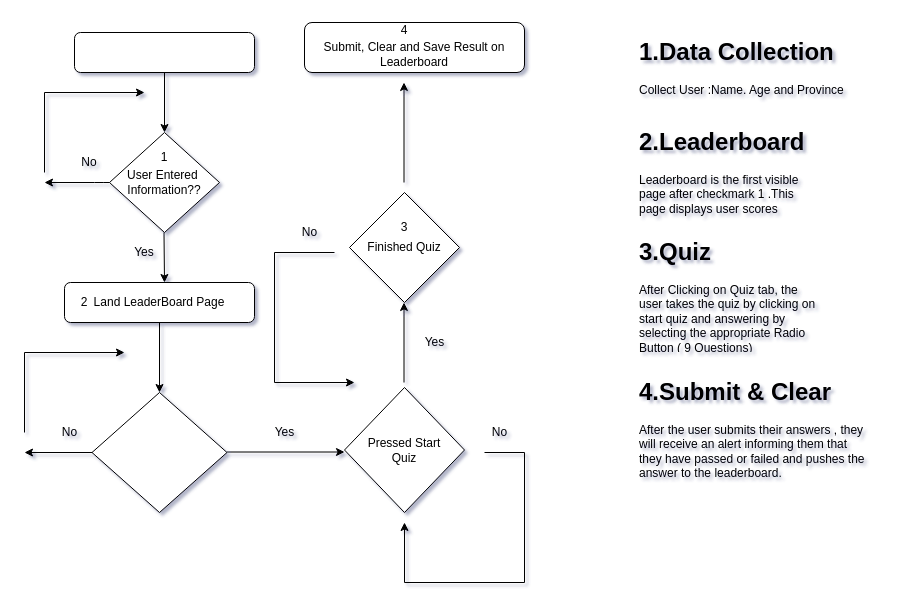
Some shapes in this 898 by 614 pixel diagram are drawn without their labels. The shapes that lost their labels are listed below. From the top down, each one's centre as x and y in pixels, then its label:
point (164, 52): Splash screen
point (159, 452): Pressed Quiz Page Icon
